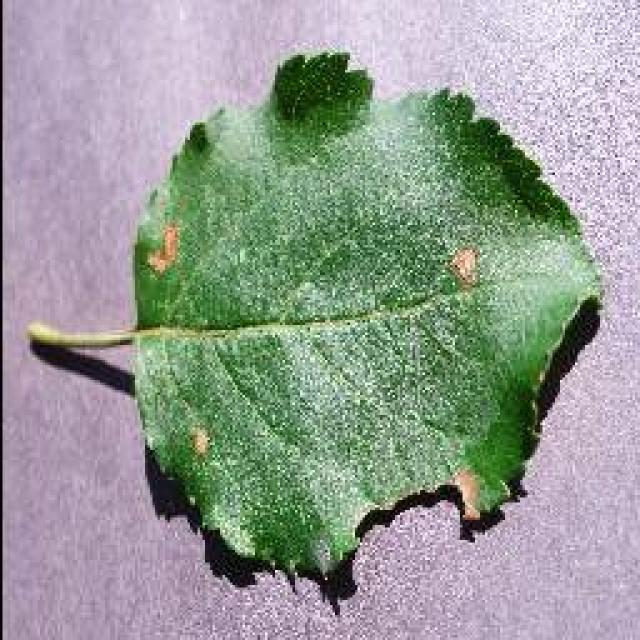apple scab disease: (27, 45, 605, 603)
